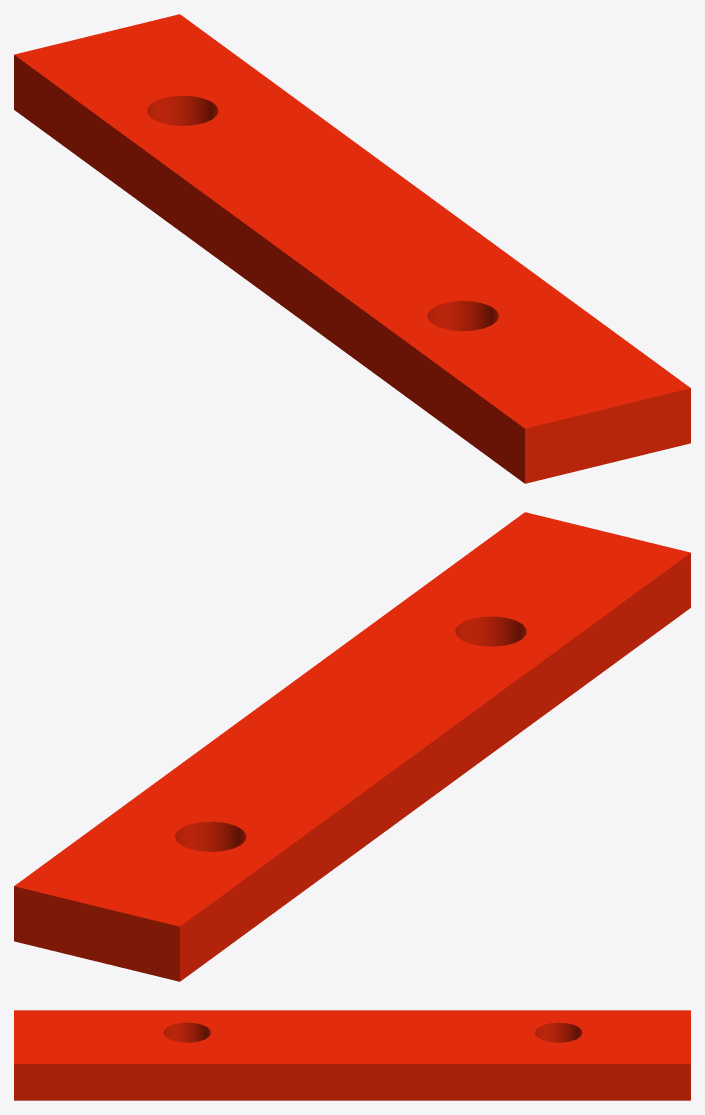
3 views of the same model, one above another, from view 1: azimuth 30°, elevation 25°; view 2: azimuth 150°, elevation 25°; view 3: azimuth 270°, elevation 25° (orthographic). The views are drawn at different scales.
Parts seen in each view (by area): view 1: do-menor; view 2: do-menor; view 3: do-menor.
Part boxes in pixels (x1,y1,x2,y2): do-menor: (14,14,690,483); do-menor: (14,512,690,981); do-menor: (14,1010,690,1100).
Bounding box in the file's own units: 0.0945 × 0.03 × 0.5039.
